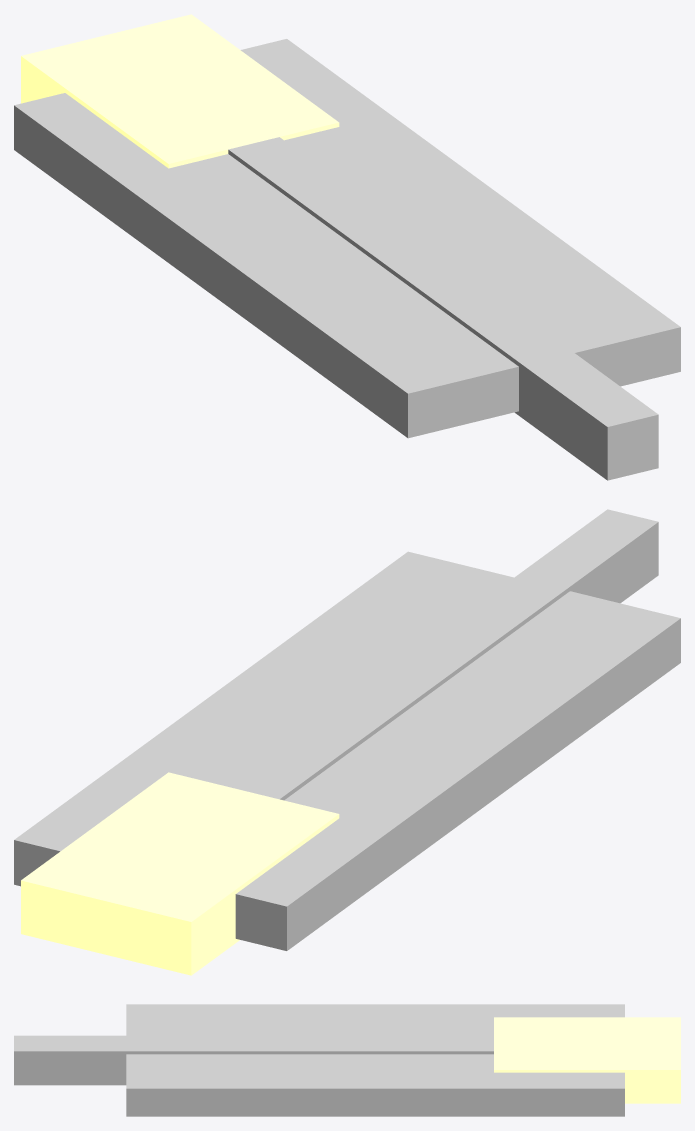
The model's file is FXFeather.fbx.
3 views of the same model, one above another, from view 1: azimuth 30°, elevation 25°; view 2: azimuth 150°, elevation 25°; view 3: azimuth 270°, elevation 25° (orthographic). The views are drawn at different scales.
Parts seen in each view (by area): view 1: FX Feather_body_1, FX Feather_body_0, FX Feather_body_2; view 2: FX Feather_body_1, FX Feather_body_2, FX Feather_body_0; view 3: FX Feather_body_1, FX Feather_body_0, FX Feather_body_2.
Boxes of the visible parts, x1=… form: FX Feather_body_1: x1=14, y1=39, x2=680, y2=438; FX Feather_body_0: x1=228, y1=137, x2=658, y2=480; FX Feather_body_2: x1=21, y1=14, x2=339, y2=168; FX Feather_body_1: x1=14, y1=551, x2=680, y2=950; FX Feather_body_2: x1=21, y1=772, x2=339, y2=975; FX Feather_body_0: x1=228, y1=509, x2=658, y2=800; FX Feather_body_1: x1=126, y1=1004, x2=624, y2=1116; FX Feather_body_0: x1=14, y1=1035, x2=493, y2=1085; FX Feather_body_2: x1=494, y1=1017, x2=680, y2=1103.
Size of the model in its own units: 32 by 6 by 107.
